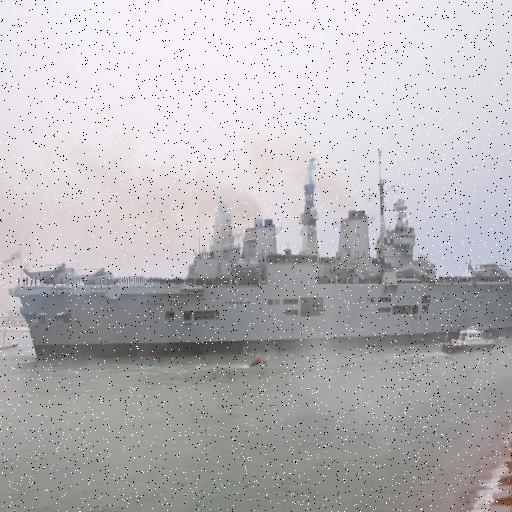Portanaves: (6, 131, 512, 362)
